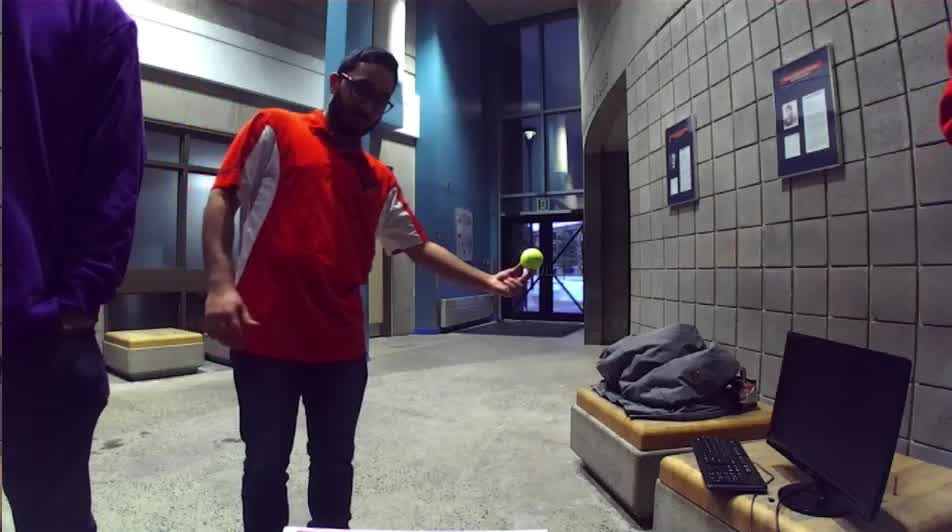tennis_ball: (518, 246, 545, 273)
